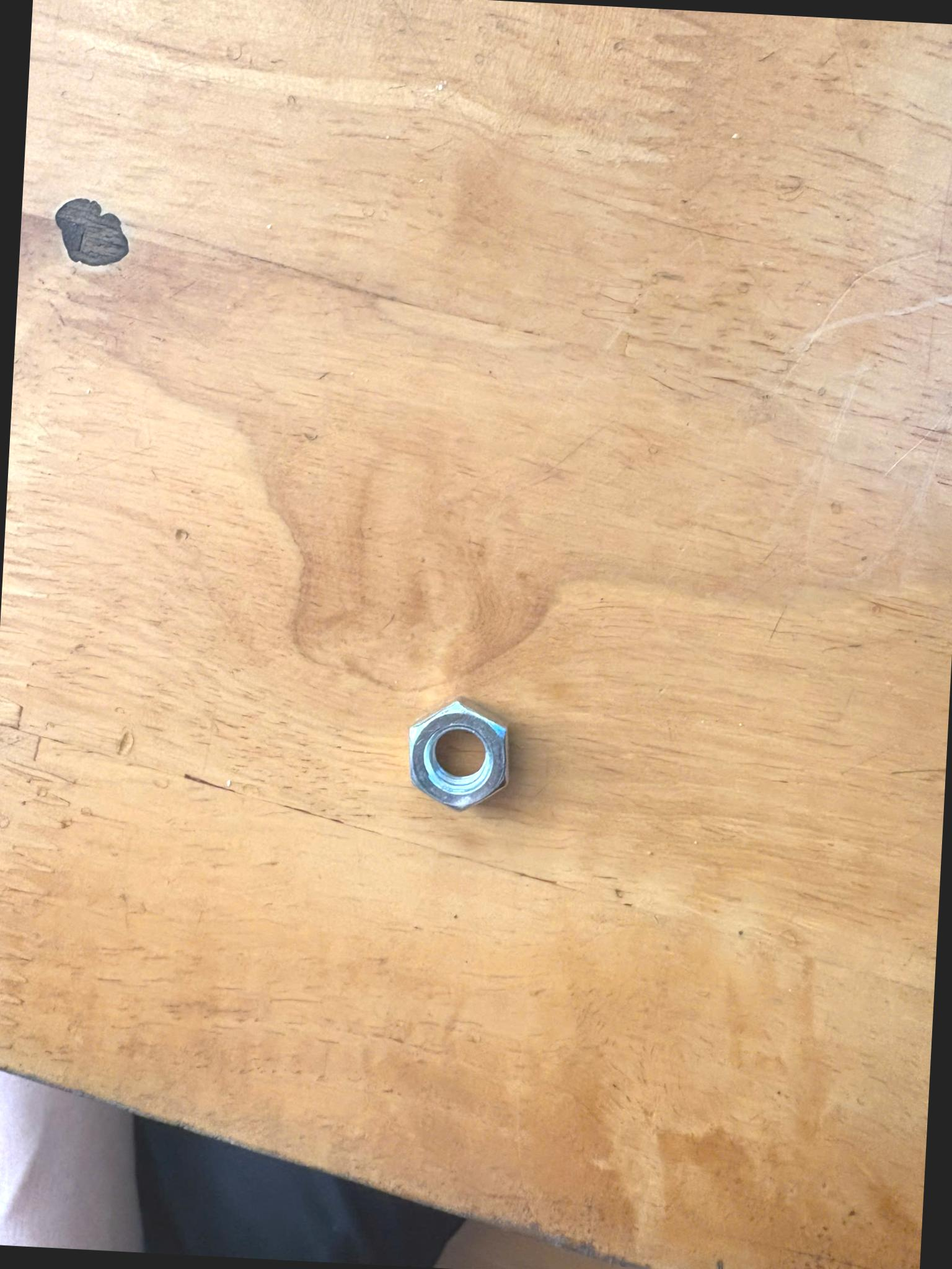nut: (376, 687, 537, 840)
